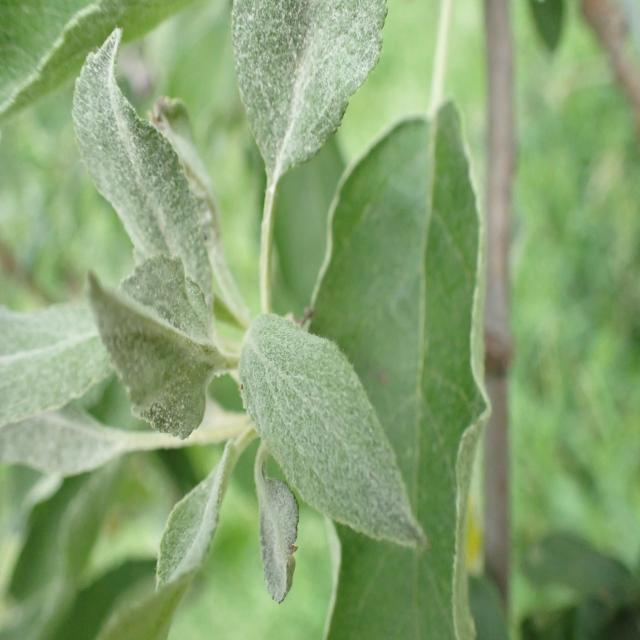Powdery_mildew: (234, 280, 441, 548), (68, 26, 220, 320), (229, 0, 393, 210), (74, 257, 230, 433), (0, 267, 119, 415), (149, 428, 238, 610), (233, 459, 329, 620), (0, 393, 131, 494), (585, 311, 592, 312)
